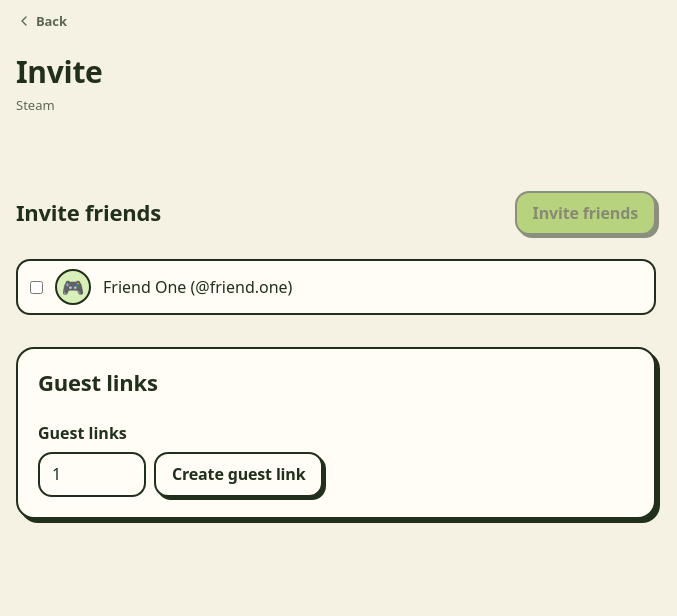
SessionInvitePage › shows a single uniform failure message for an unusable invitee_D115
The image size is (677, 616).
Click the checkbox labelled "Friend One (@friend.one)": (36, 287) [30,281,43,294]
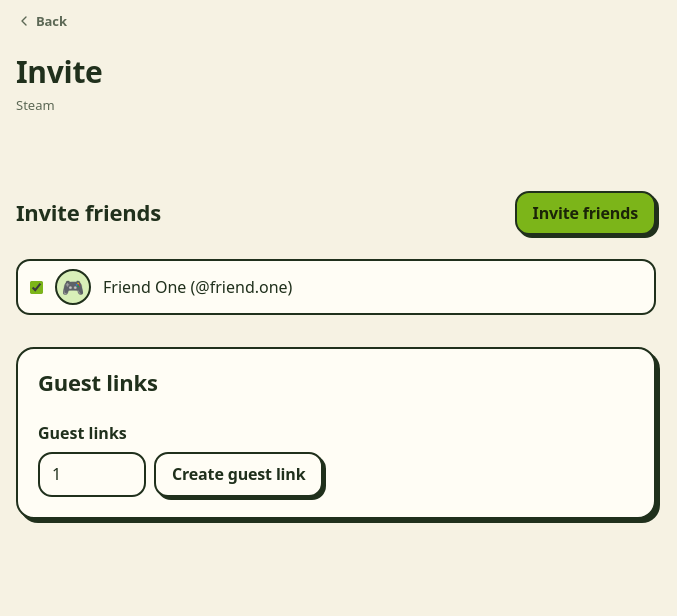
Click the button "Invite friends": (585, 213) [515,191,656,235]
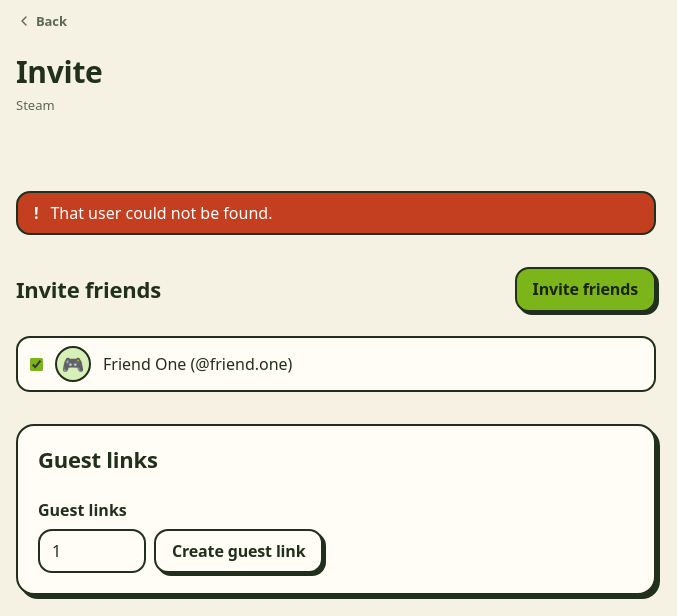
Now the text "That user could not be found." is shown, box [50,202,272,224]
